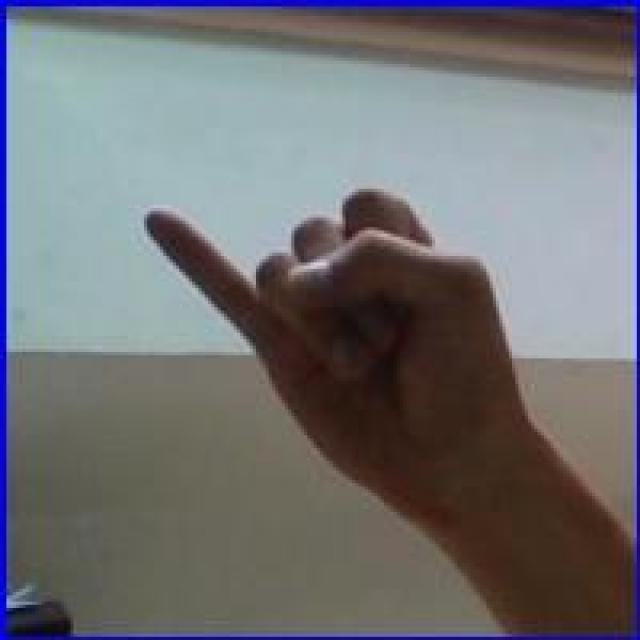J: (119, 182, 634, 634)
